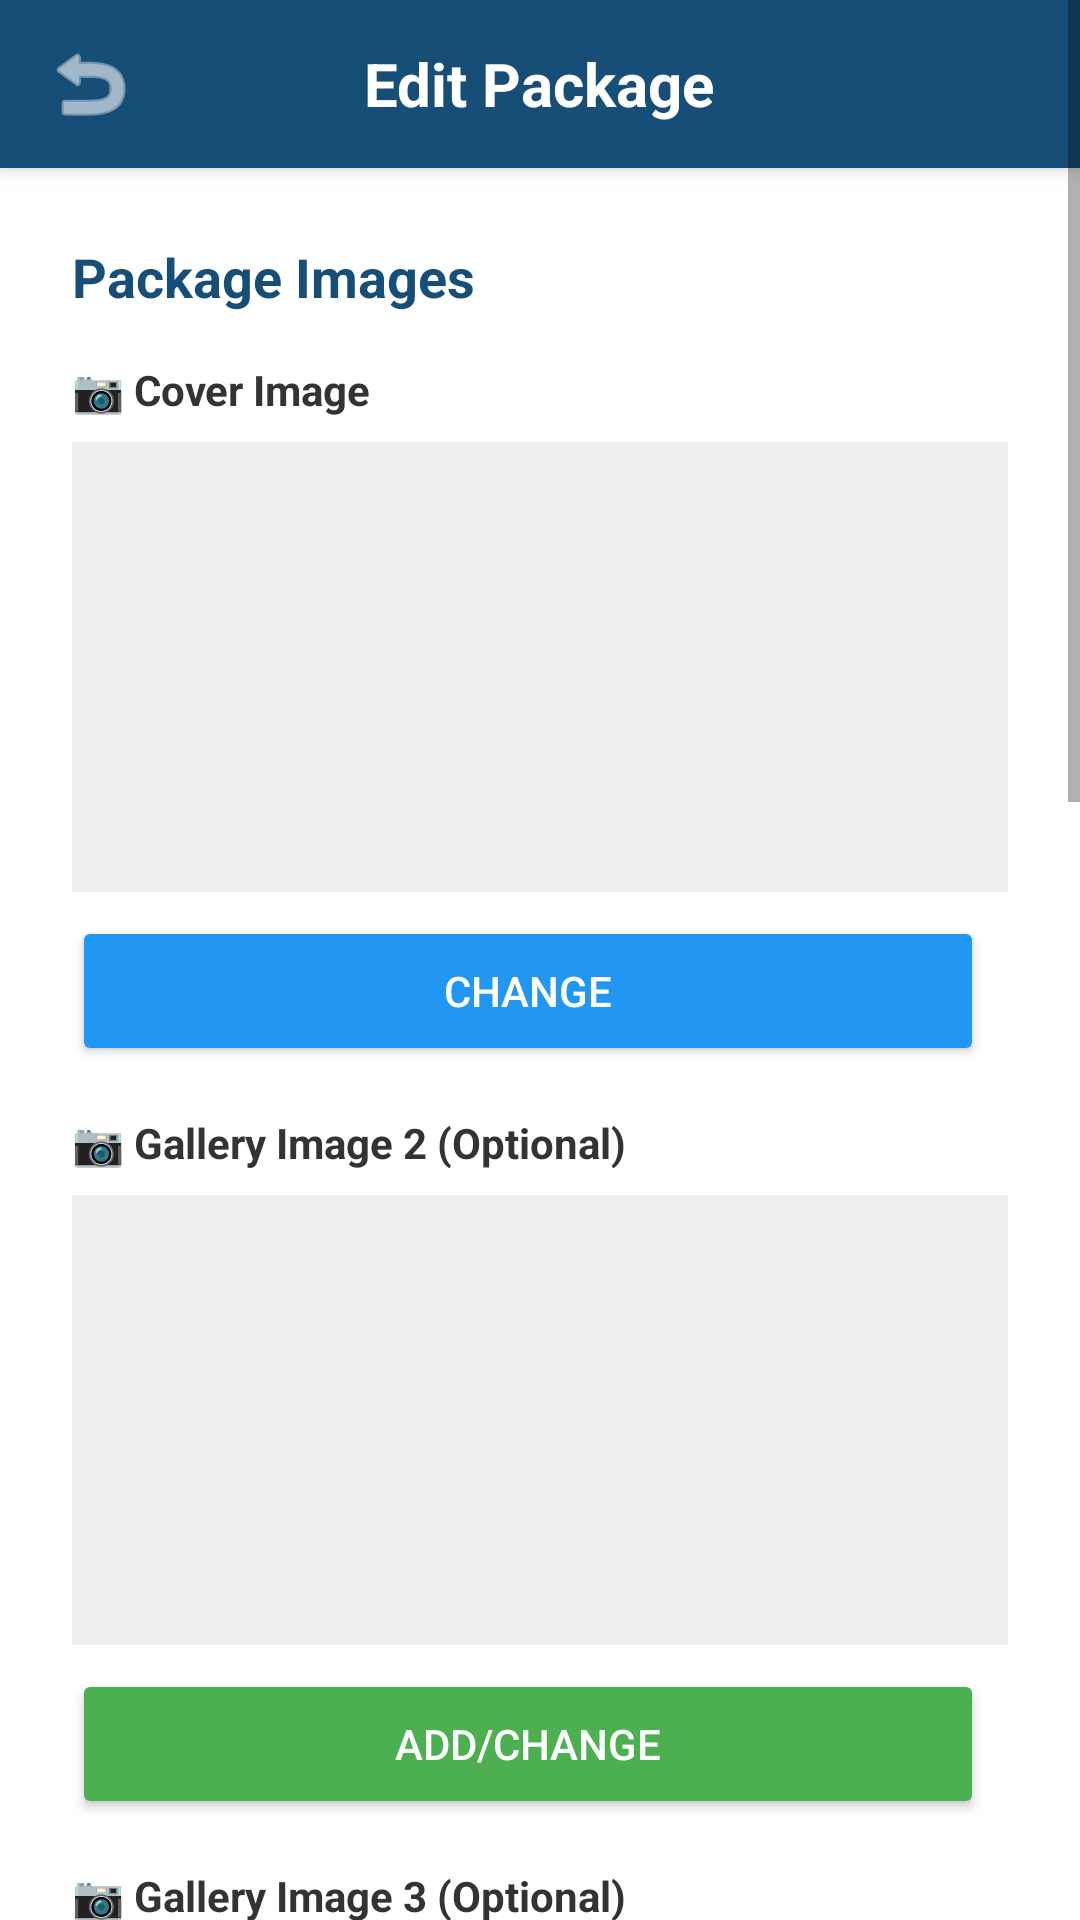

Icon click points for this 1080px x 1920px phone screenshot, format (x=x, y=y):
revert: (x=91, y=84)
